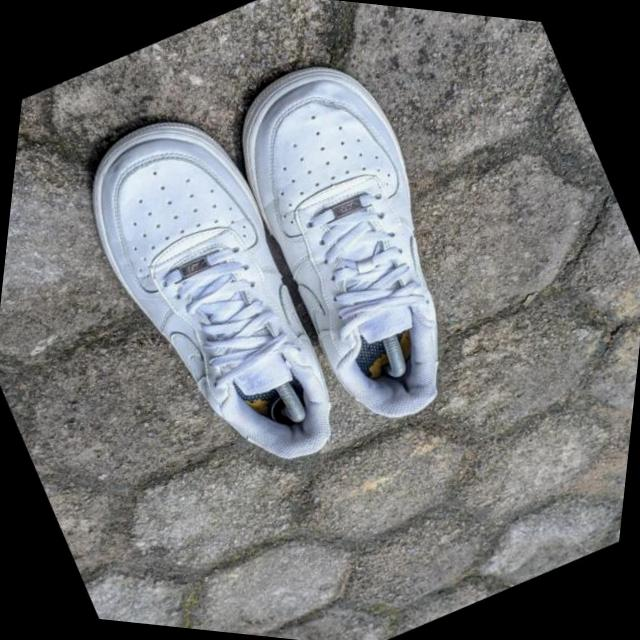nike_fake_airforce: (24, 76, 391, 514), (174, 26, 531, 454)
